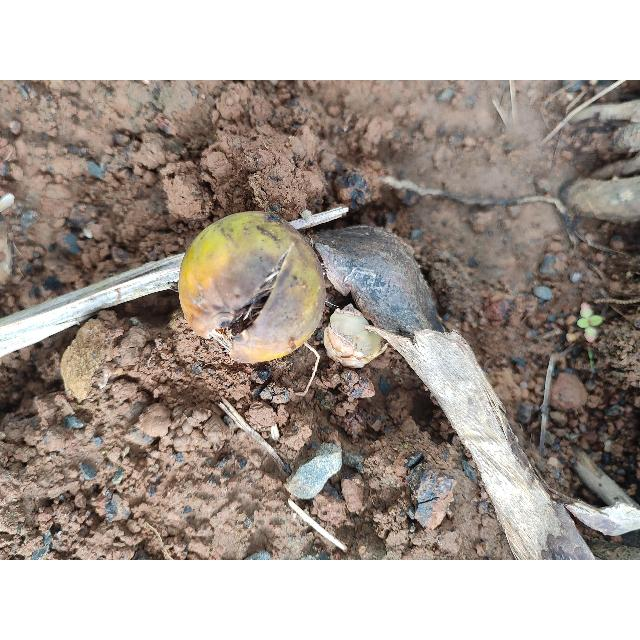damaged: (179, 212, 325, 363)
